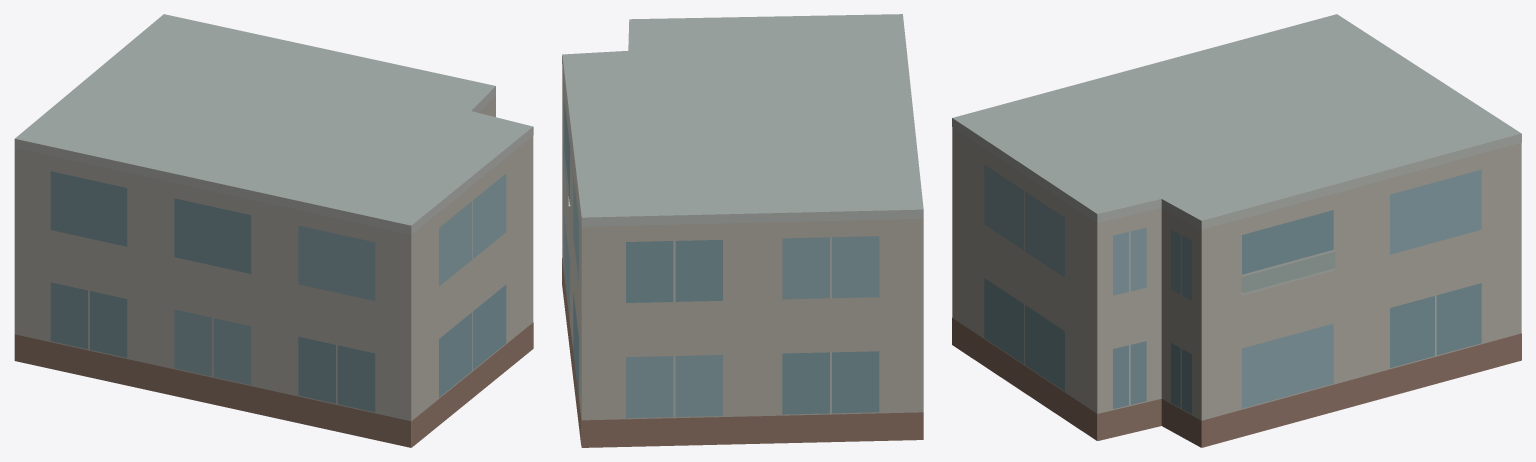
The model's file is survey-upis-32583482.glb.
3 views of the same model, side by side, from view 1: azimuth 30°, elevation 25°; view 2: azimuth 150°, elevation 25°; view 3: azimuth 270°, elevation 25° (orthographic). The views are drawn at different scales.
Parts seen in each view (by area): view 1: survey-upis-32583482.tmp; view 2: survey-upis-32583482.tmp; view 3: survey-upis-32583482.tmp.
Part boxes in pixels (box(x1,y1,x2,y2)): survey-upis-32583482.tmp: box(14, 14, 533, 447); survey-upis-32583482.tmp: box(562, 14, 923, 447); survey-upis-32583482.tmp: box(952, 14, 1521, 447).
Bounding box in the file's own units: 11.93 × 6.1 × 13.88.
